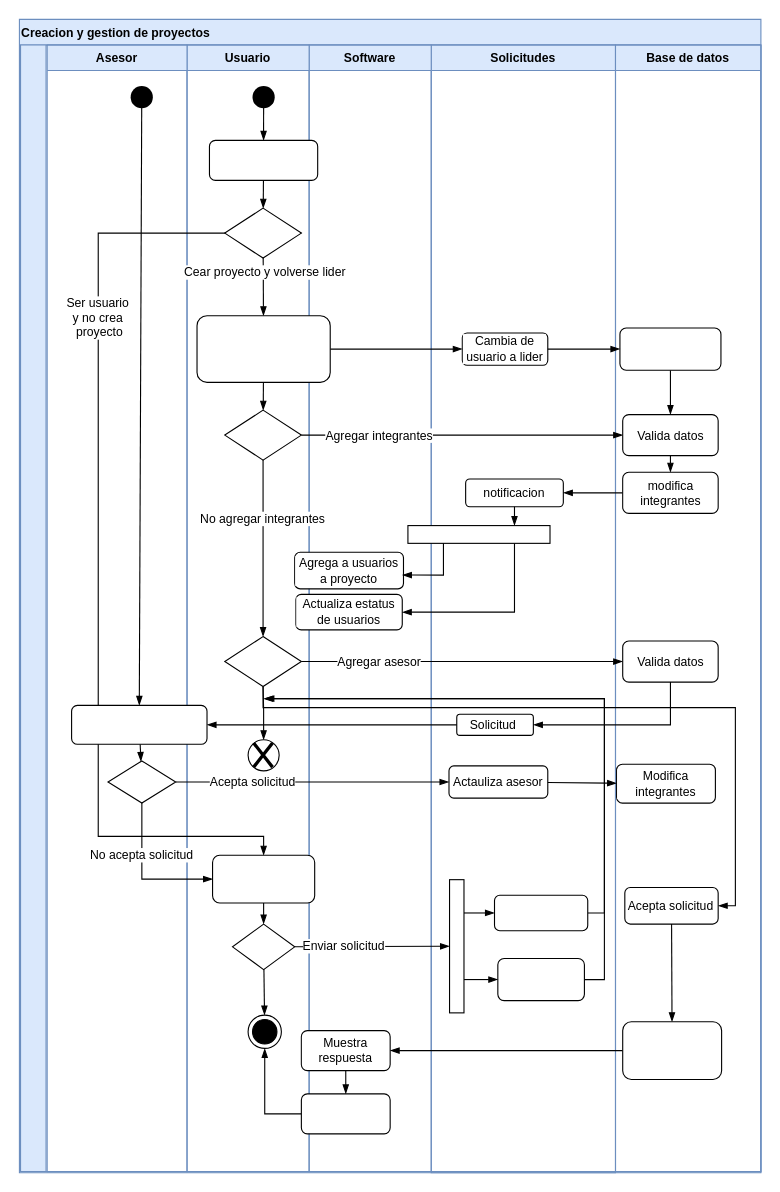
Some shapes in this 780 by 1192 pixel diagram are drawn without their labels. Each missing label, with the centre of its shape:
"agrega integrante a proyecto" goes at (x=672, y=1050).
"Envia al panel de proyecto" goes at (x=345, y=1113).
"envio de solicitud a lider" goes at (x=540, y=912).
"Inicia sesion" goes at (x=263, y=159).
"notifica de solicitud" goes at (x=540, y=979).
"Notifica y espera respuesta" goes at (x=138, y=724).
"se completan los datos como titulo, descripcion etc.." goes at (x=263, y=348).
"se validan datos" goes at (x=670, y=348).
"Ver panel de proyectos" goes at (x=263, y=878).
